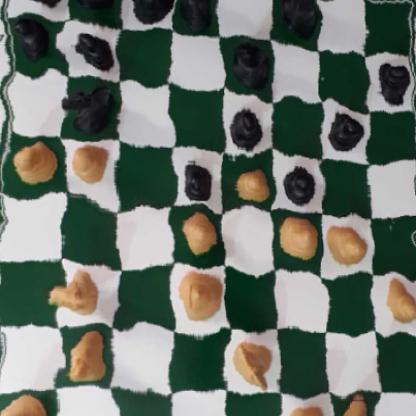black-bishop: (228, 37, 268, 97), (128, 0, 170, 31)
black-king: (176, 0, 217, 30)
black-knight: (57, 77, 113, 131), (69, 0, 111, 17)
black-pawn: (7, 18, 55, 61), (76, 25, 114, 75), (373, 57, 409, 108), (180, 154, 215, 205), (325, 103, 360, 152), (228, 107, 266, 152), (282, 161, 316, 206)
black-rook: (276, 0, 316, 43), (3, 0, 63, 12)
white-bishop: (179, 265, 225, 321), (64, 330, 107, 388)
white-king: (335, 392, 386, 416)
white-knight: (46, 267, 107, 318), (232, 333, 272, 390)
white-pawn: (8, 138, 58, 184), (323, 219, 366, 270), (277, 210, 318, 263), (69, 140, 113, 188), (225, 157, 268, 205), (181, 209, 220, 252), (382, 280, 416, 327)
white-rook: (0, 395, 51, 416), (285, 402, 328, 416)
